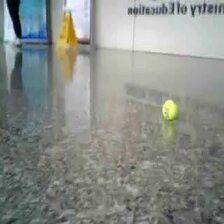tennis: (161, 100, 178, 121)
